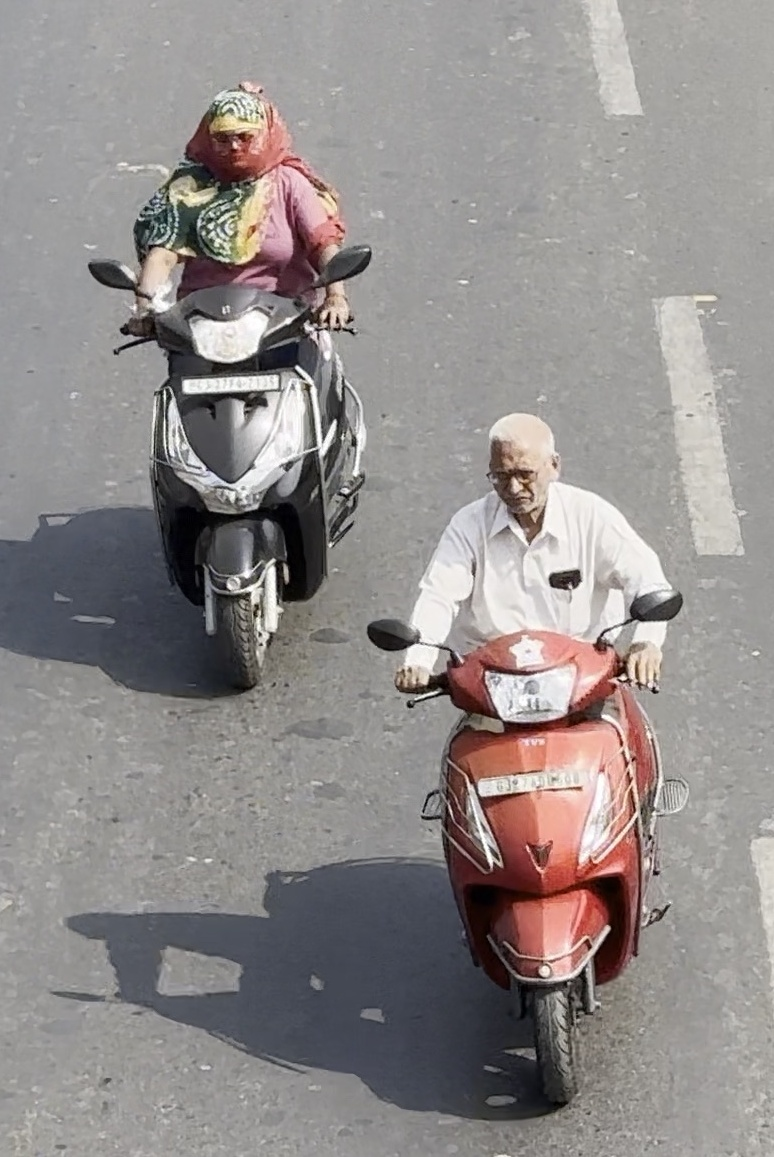BikeWithRider: (359, 403, 693, 1115), (72, 81, 383, 703)
NoHelmet: (468, 405, 581, 526), (185, 82, 282, 180)
